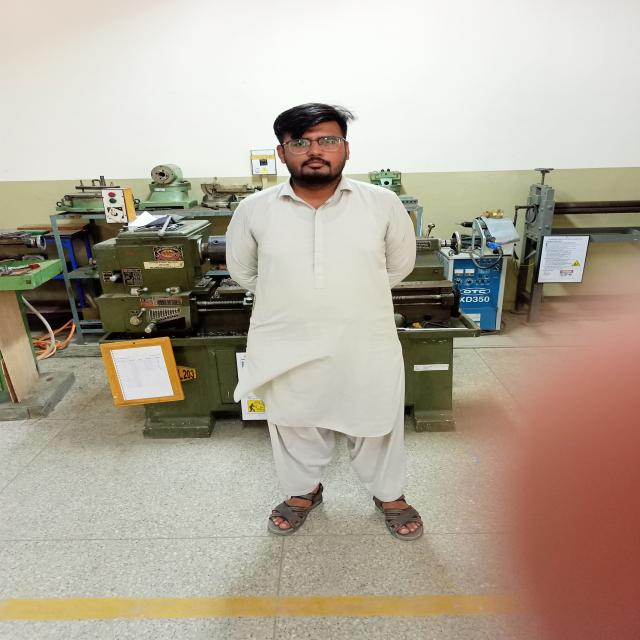dress: (218, 171, 426, 511)
glasses: (275, 136, 360, 158)
